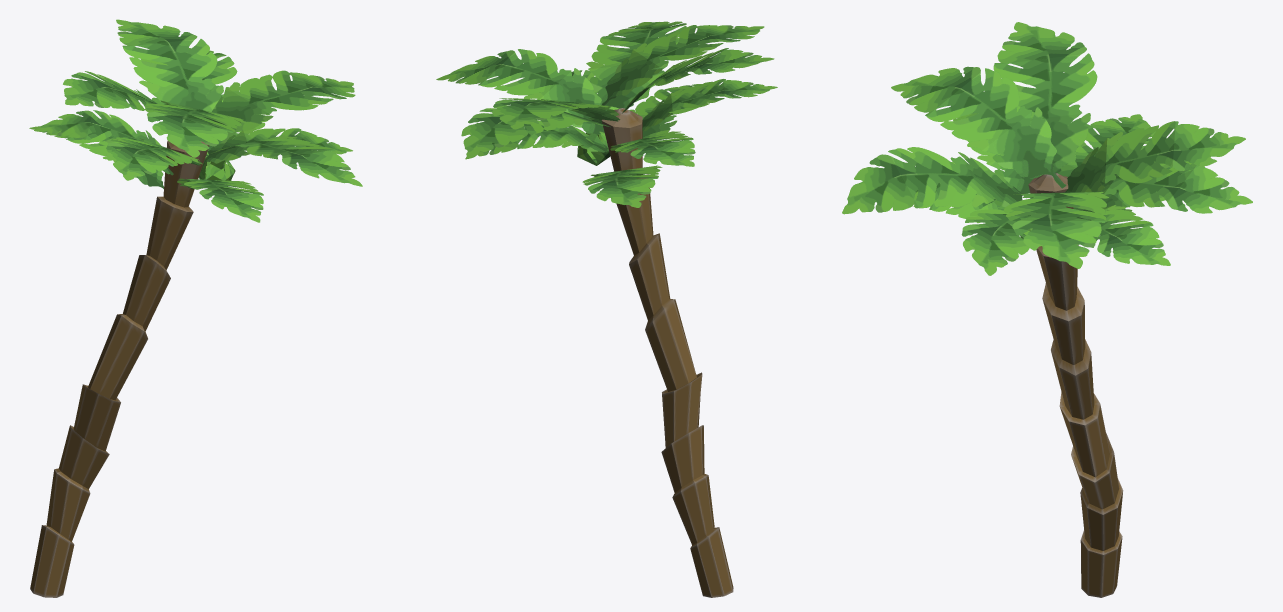
Rendered from palm_tree02.FBX.
The picture shows the model from 3 angles, left to right: view 1: azimuth 30°, elevation 25°; view 2: azimuth 150°, elevation 25°; view 3: azimuth 270°, elevation 25°; orthographic projection. The views are drawn at different scales.
Parts seen in each view (by area): view 1: Object021; view 2: Object021; view 3: Object021.
Part boxes in pixels (x1,y1,x2,y2): Object021: (29, 19, 362, 597); Object021: (436, 21, 777, 597); Object021: (842, 22, 1252, 597).
Size of the model in its own units: 633 by 981 by 709.
2 materials, 2 textured.
